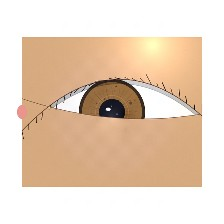pinguecula_lesion: (30, 94, 62, 120)
